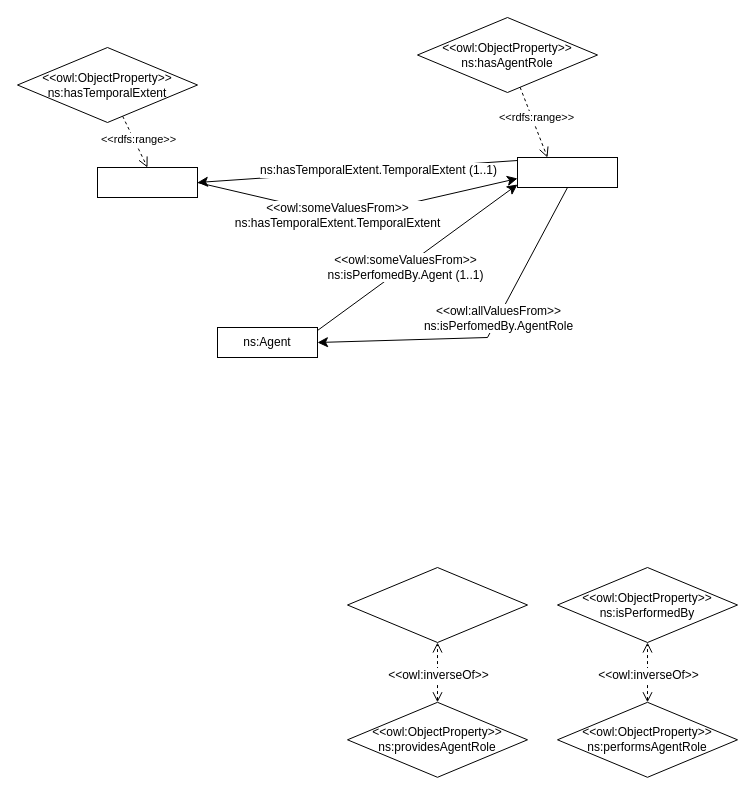
Image size: 755x795. Some labels were removed from this diagram. The centre of each missing label's shape, as x and y in pixels:
<<owl:ObjectProperty>> ns:isProvidedBy: pixel 437 604
ns:AgentRole: pixel 567 172
ns:TemporalExtent: pixel 147 182
